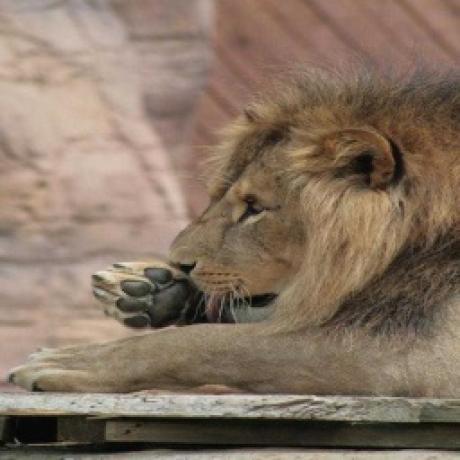Lion: (0, 51, 460, 397)
